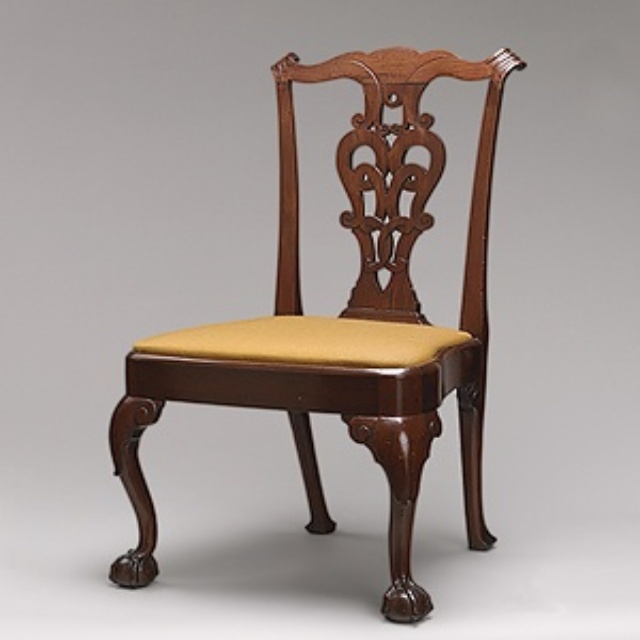obstacle: (109, 47, 523, 622)
